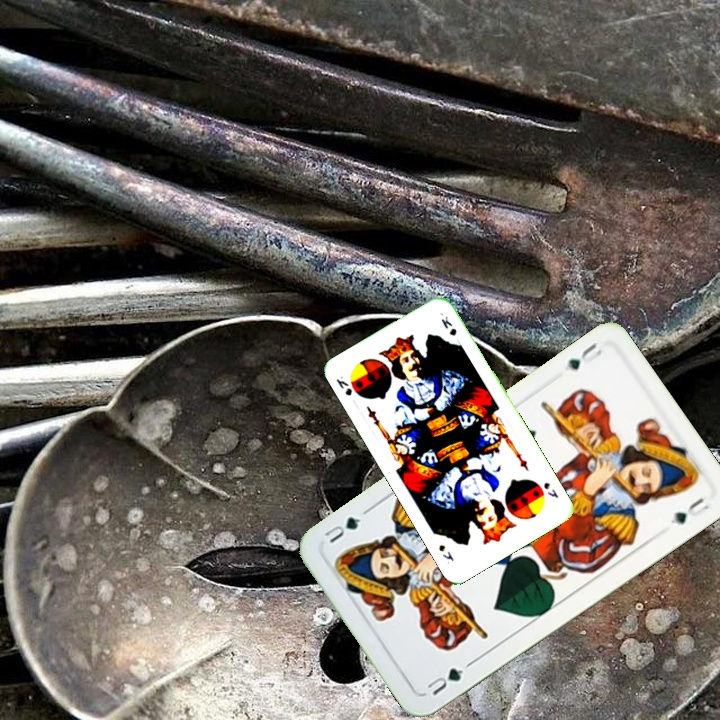GU: (423, 658, 474, 699), (563, 338, 605, 373)
SK: (332, 372, 355, 398), (539, 478, 561, 501)
